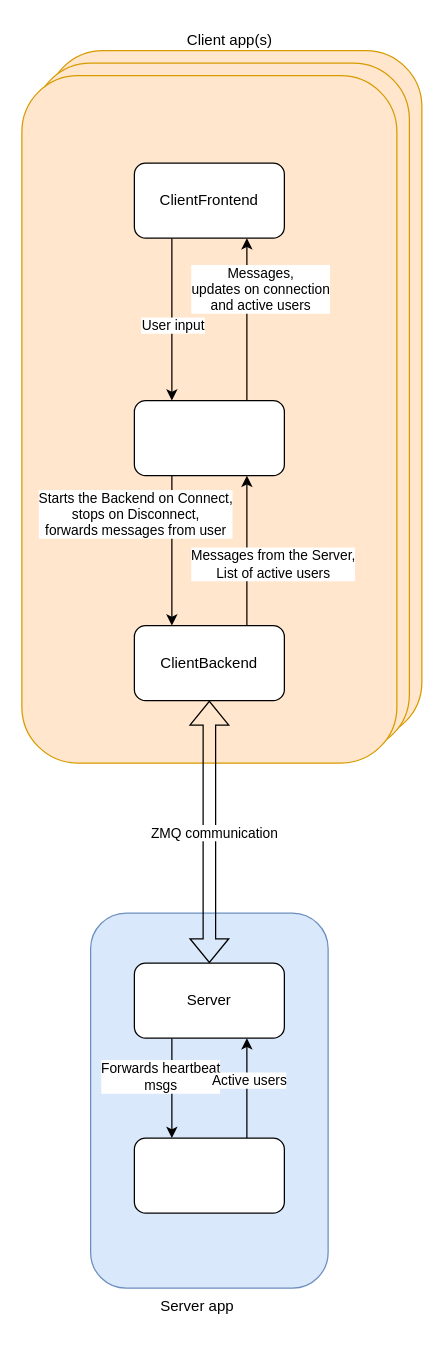
Image size: 444x1346. Some labels were removed from this diagram. The centre of each missing label's shape, as x and y in pixels:
"ChatClientController" goes at (x=208, y=437).
"UserManager" goes at (x=208, y=1175).
